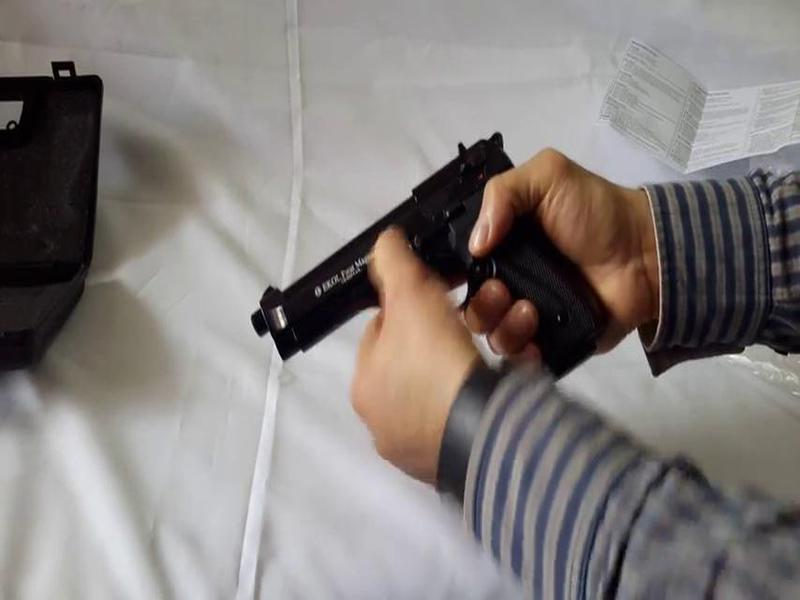Pistola: (261, 133, 604, 377)
